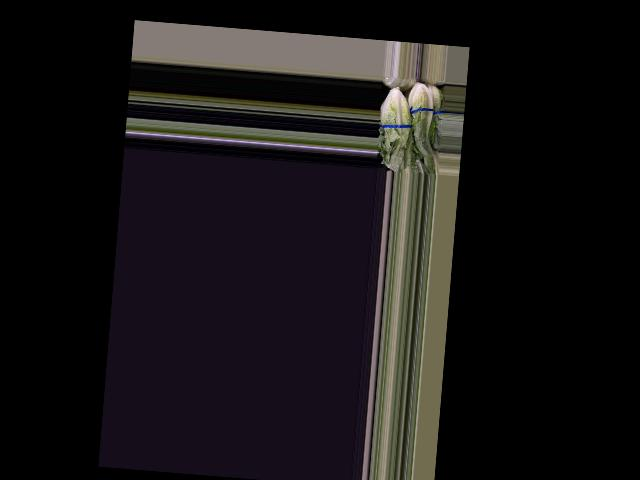lettuce: (403, 80, 441, 158)
